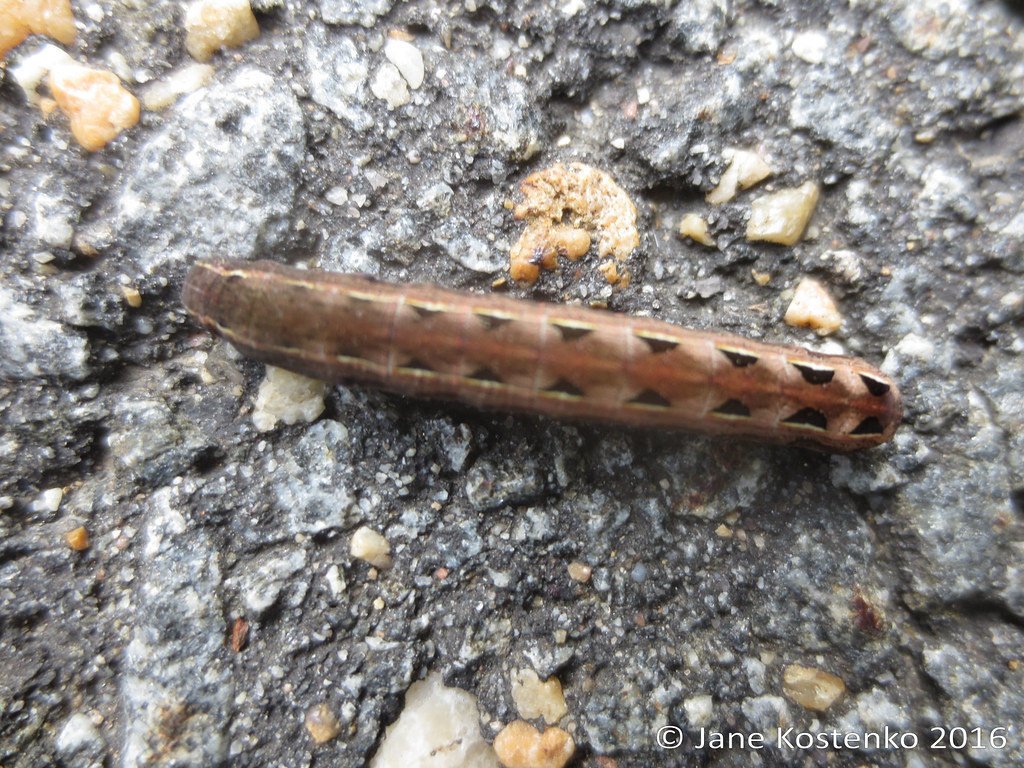Armyworm: (148, 245, 907, 494)
